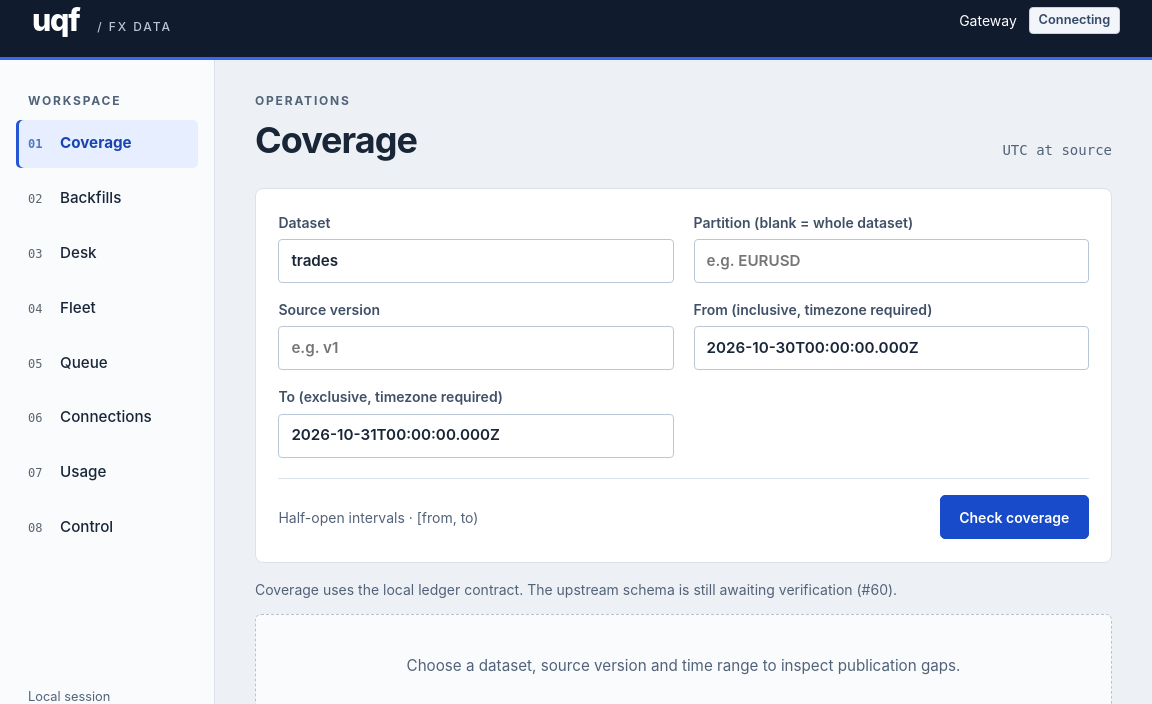
Scenario: shows failed and idle workers distinctly, including unreadable files
Click the button "02 Backfills": click(107, 199) [16,174,198,223]
(page scrolled)
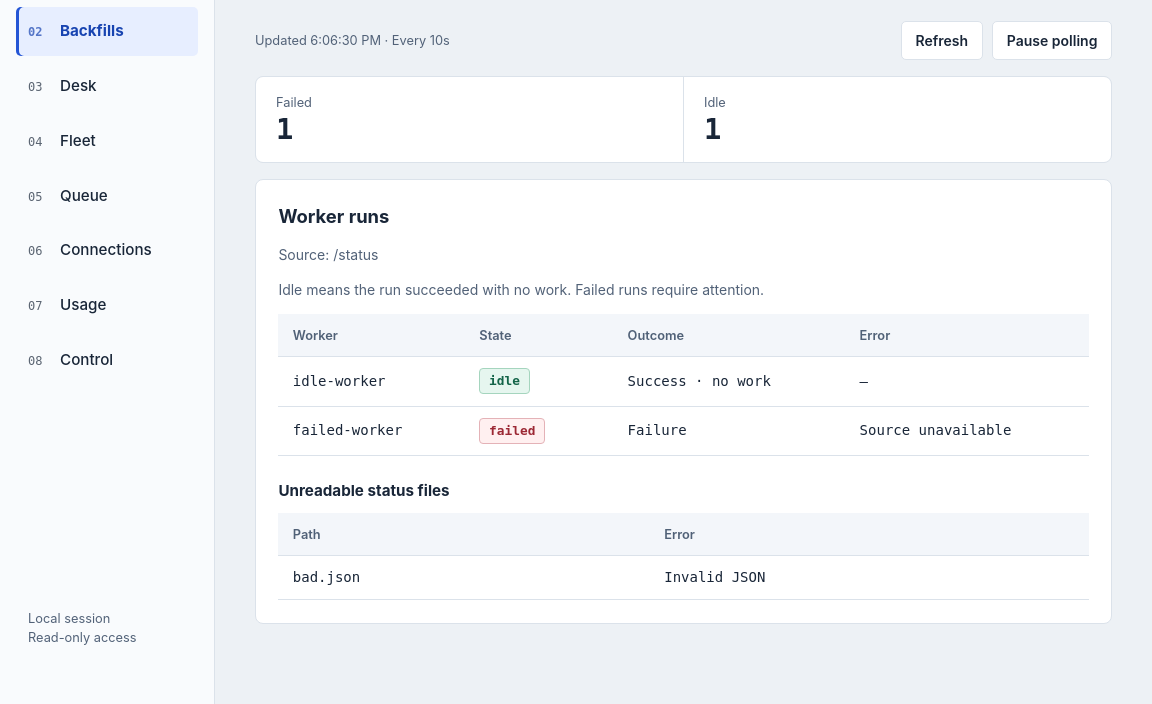
Now the text "Success · no work" is shown, box [613,356,845,406]
Now the text "Failure" is shown, box [613,406,845,456]
Now the text "Source unavailable" is shown, box [845,406,1089,456]
